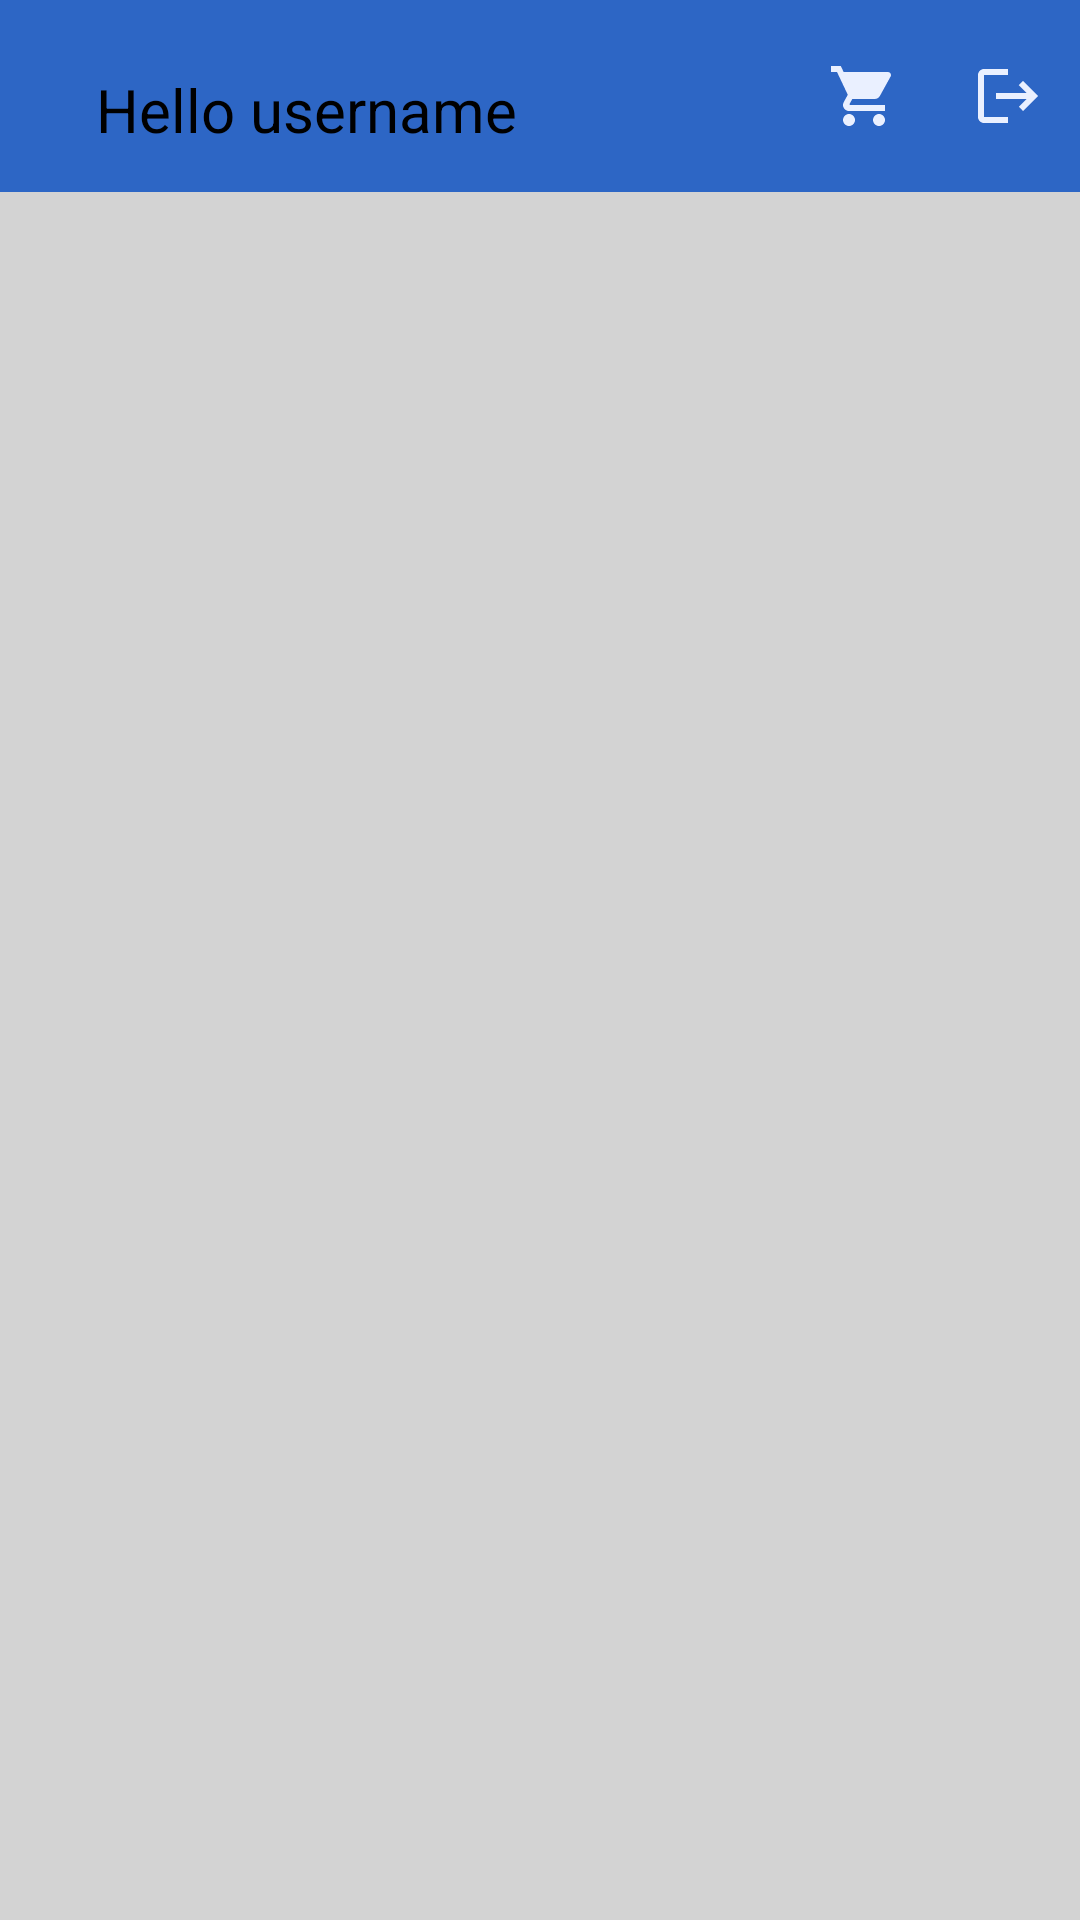

Icon bounding boxes for this 1080 x 1920 phone screenshot, format (x1, y1, x2, y2):
shopping cart: (831, 66, 891, 126)
